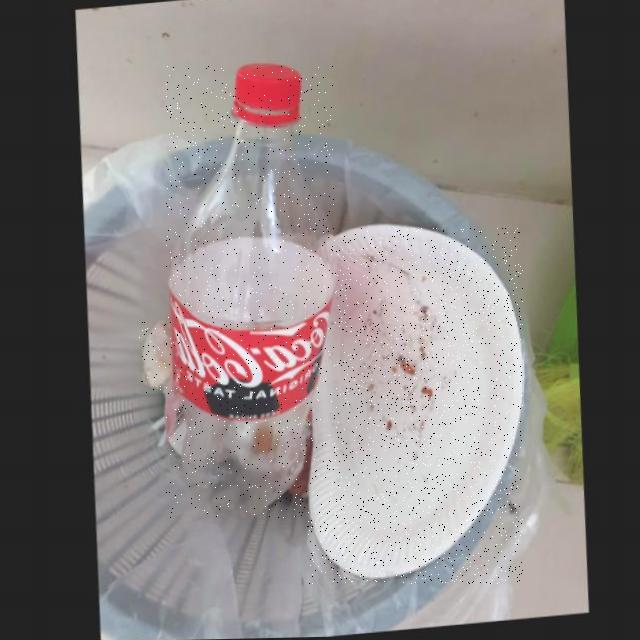paper: (307, 228, 523, 583), (140, 322, 170, 392)
plastic: (166, 66, 334, 518)
